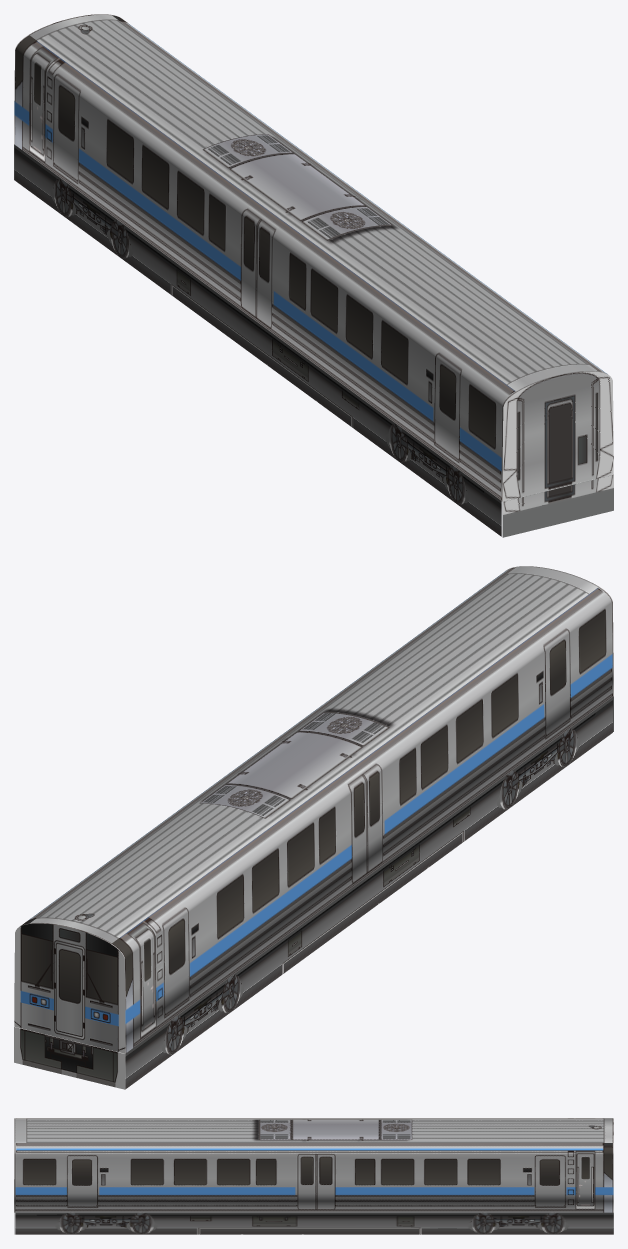
File: car2.glb
The picture shows the model from 3 angles, top to bottom: view 1: azimuth 30°, elevation 25°; view 2: azimuth 150°, elevation 25°; view 3: azimuth 270°, elevation 25°; orthographic projection. The views are drawn at different scales.
Visible parts, largest first — view 1: jr-shikoku-7000-car2; view 2: jr-shikoku-7000-car2; view 3: jr-shikoku-7000-car2.
Boxes of the visible parts, x1,y1,x2,y2 form: jr-shikoku-7000-car2: (14,14,613,537); jr-shikoku-7000-car2: (14,566,613,1089); jr-shikoku-7000-car2: (14,1118,613,1234).
Size of the model in its own units: 2.8 by 3.57 by 21.33.
Materials: 9 (8 with a texture image).
